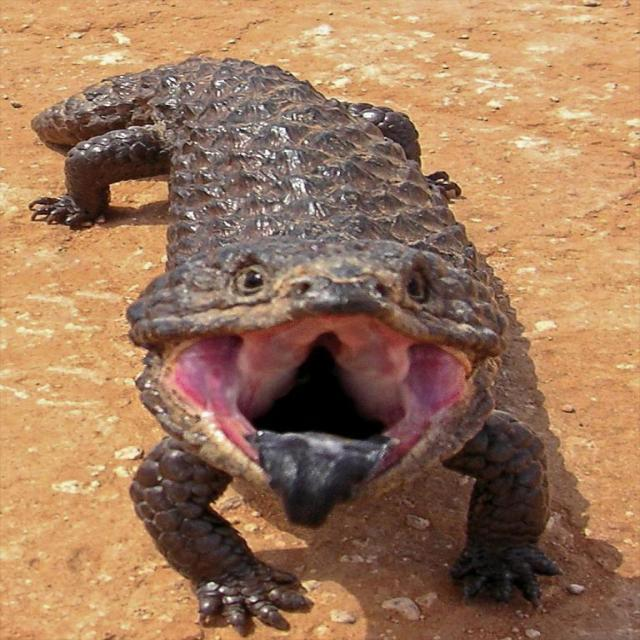crocodile: (24, 60, 561, 632)
